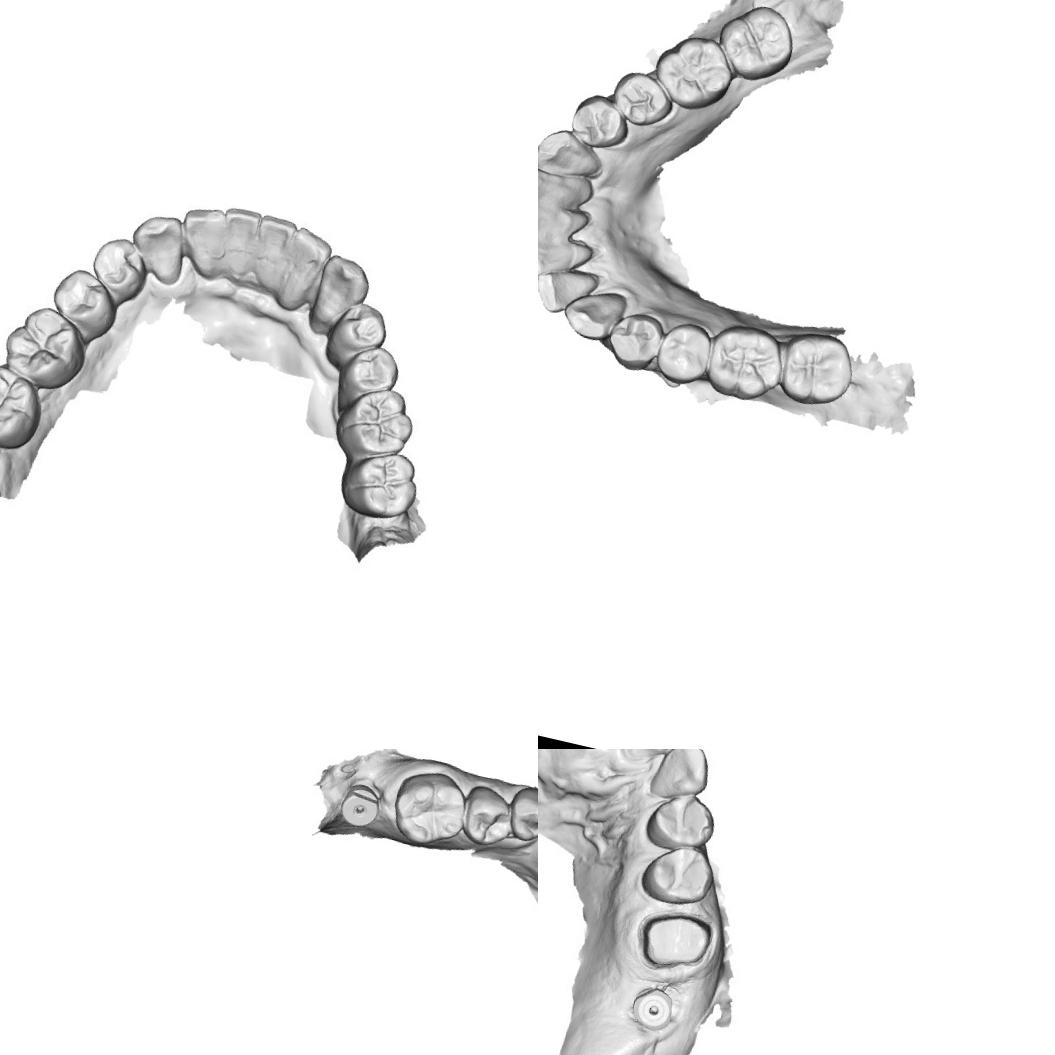canine: (306, 247, 378, 334), (123, 206, 192, 288), (557, 280, 630, 348), (538, 123, 608, 184), (646, 749, 716, 809)
crown: (629, 900, 717, 978)
implant: (626, 985, 682, 1036), (335, 778, 385, 832)
incisor: (276, 222, 334, 310), (176, 205, 230, 277), (248, 216, 298, 290), (538, 264, 598, 323), (215, 206, 265, 276), (538, 162, 588, 221), (538, 230, 588, 289), (538, 199, 582, 255), (628, 749, 691, 765)
molar: (645, 26, 744, 120), (0, 299, 94, 397), (709, 0, 802, 88), (385, 763, 475, 853), (774, 324, 862, 414), (698, 318, 787, 406), (333, 380, 422, 466), (336, 443, 427, 526), (0, 358, 49, 453)
premolar: (41, 263, 126, 344), (633, 838, 718, 914), (642, 785, 720, 857), (84, 232, 152, 307), (564, 86, 636, 156), (652, 316, 717, 392), (604, 67, 678, 132), (338, 336, 408, 404), (327, 296, 395, 362), (455, 782, 519, 852), (603, 306, 667, 374), (502, 782, 538, 848)
